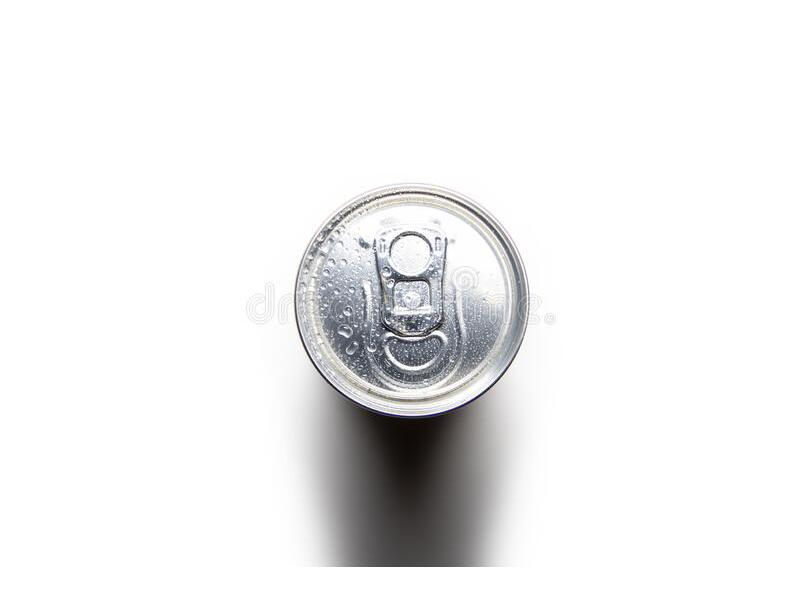can: (290, 175, 538, 427)
